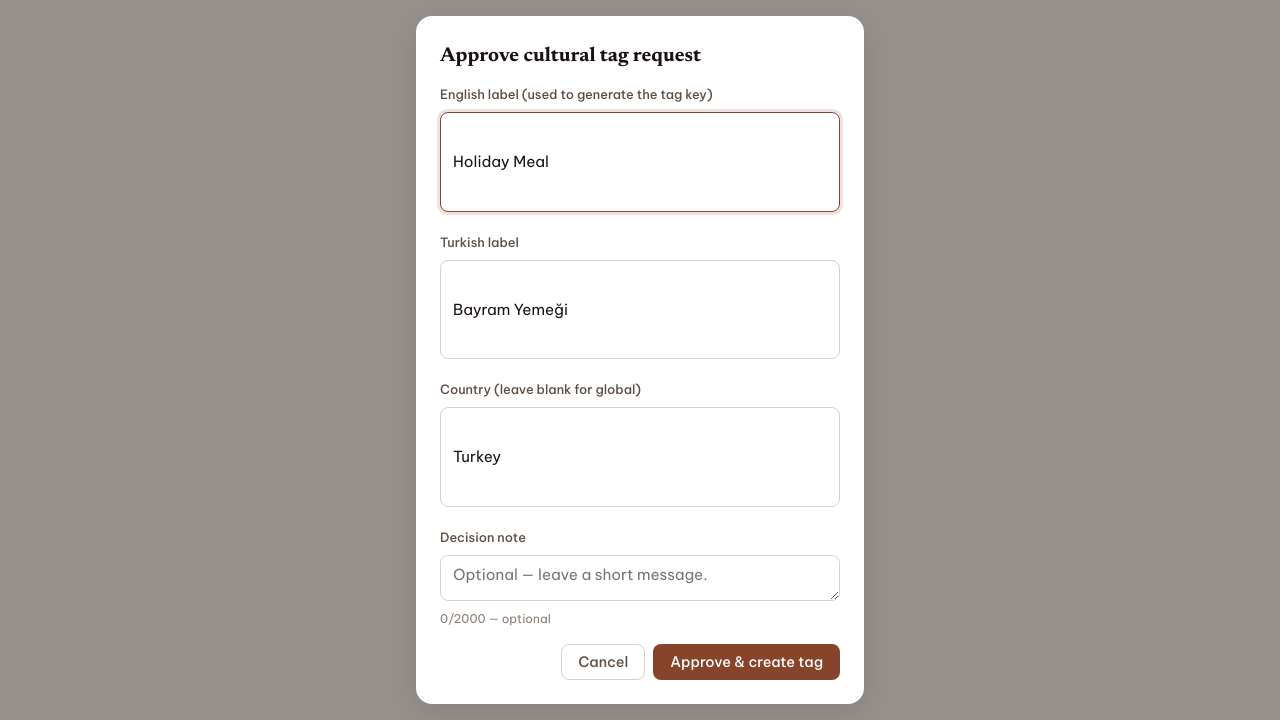
Test case: ApproveCulturalTagDialog › disables the Approve button when labelEn is cleared
Clear the field showing "Holiday Meal". click: (640, 162)
box: [440,112,840,212]
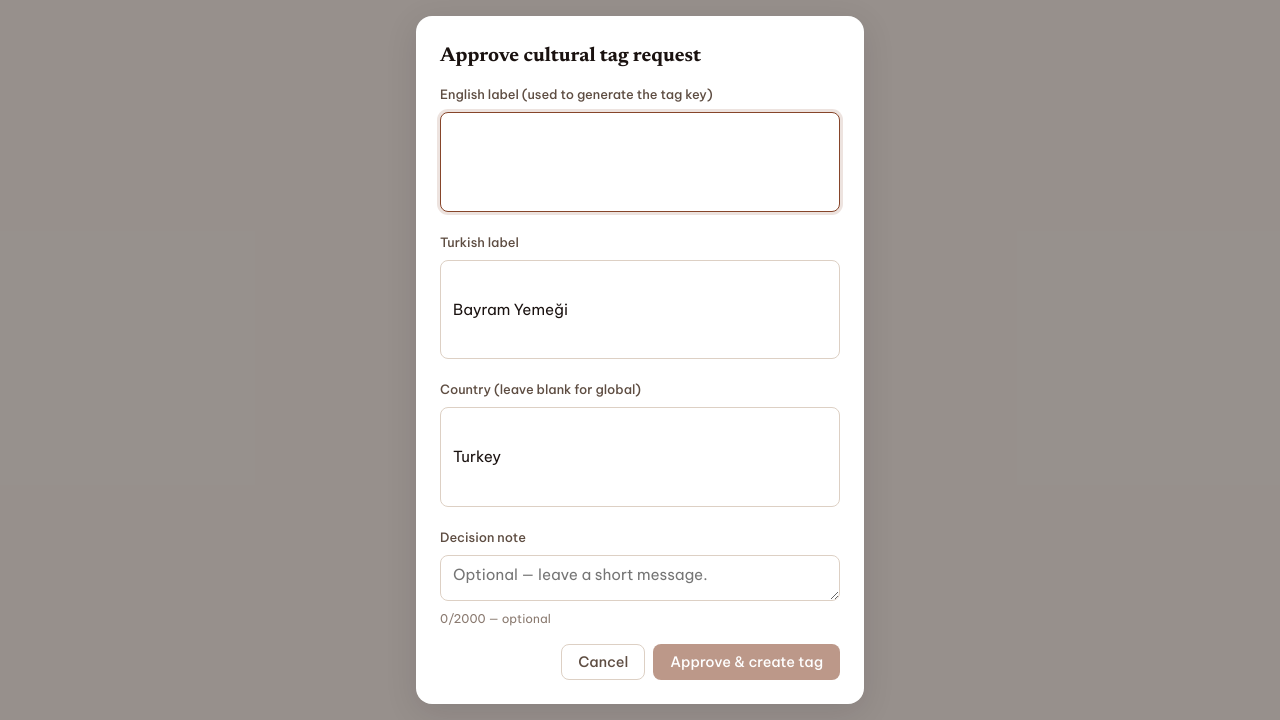
Now the button "Approve & create tag" is disabled, box [653,644,840,680]
